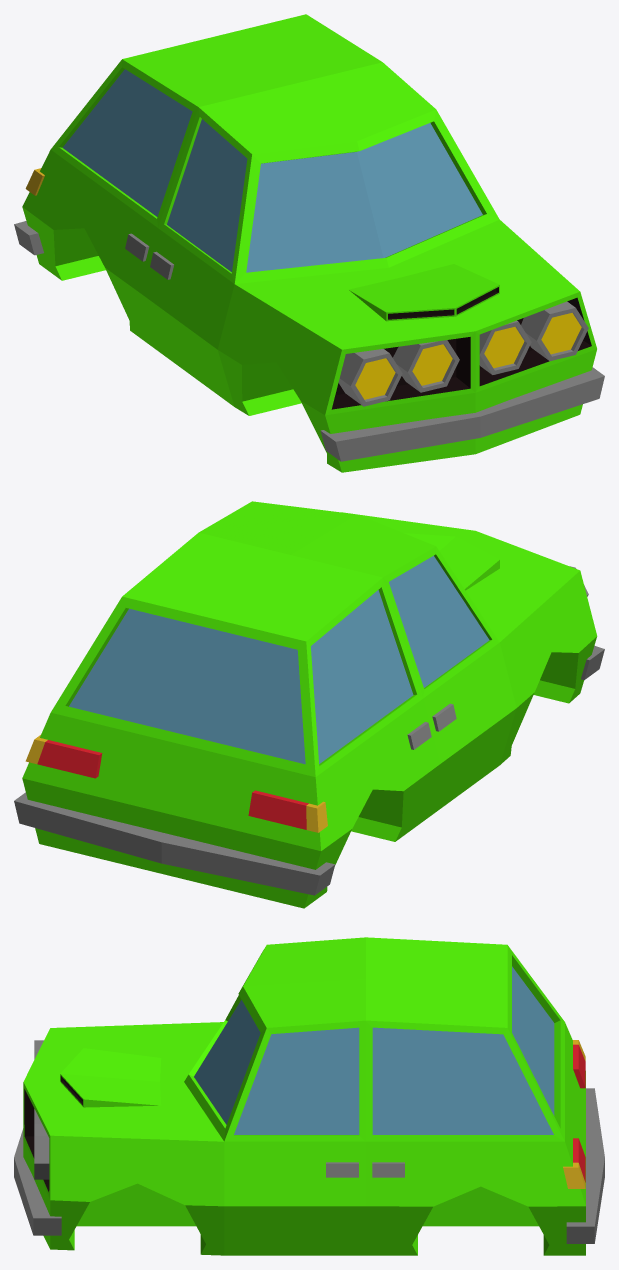
The model's file is LowPaulCar3.fbx.
3 views of the same model, one above another, from view 1: azimuth 30°, elevation 25°; view 2: azimuth 150°, elevation 25°; view 3: azimuth 270°, elevation 25° (orthographic). The views are drawn at different scales.
Parts seen in each view (by area): view 1: Cube.003; view 2: Cube.003; view 3: Cube.003.
Part boxes in pixels (box(x1,y1,x2,y2)): Cube.003: box(14, 14, 604, 472); Cube.003: box(14, 501, 604, 908); Cube.003: box(14, 937, 604, 1255).
Size of the model in its own units: 163 by 119 by 294.
